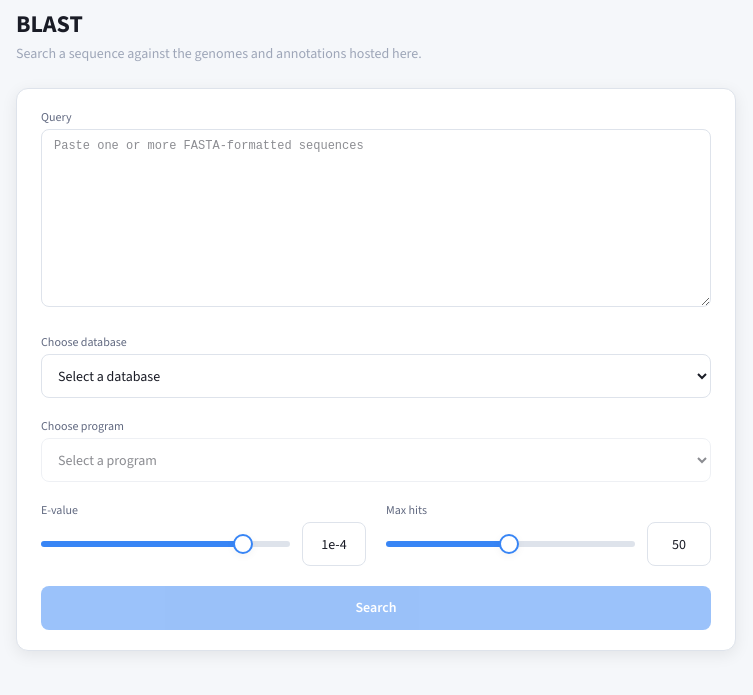
BlastPage › complains when the query is not FASTA formatted
Type "ATGGAAGATTCA" into the text box labelled "Query".
click(376, 218); type("ATGGAAGATTCA")  # box x1=41 y1=129 x2=711 y2=307
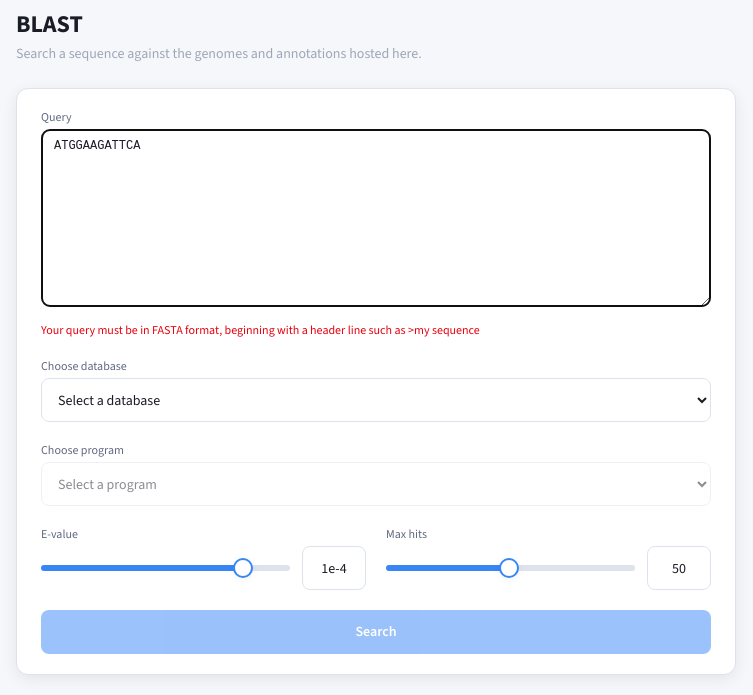
Check: the message shows "FASTA", box x1=41 y1=322 x2=480 y2=338
